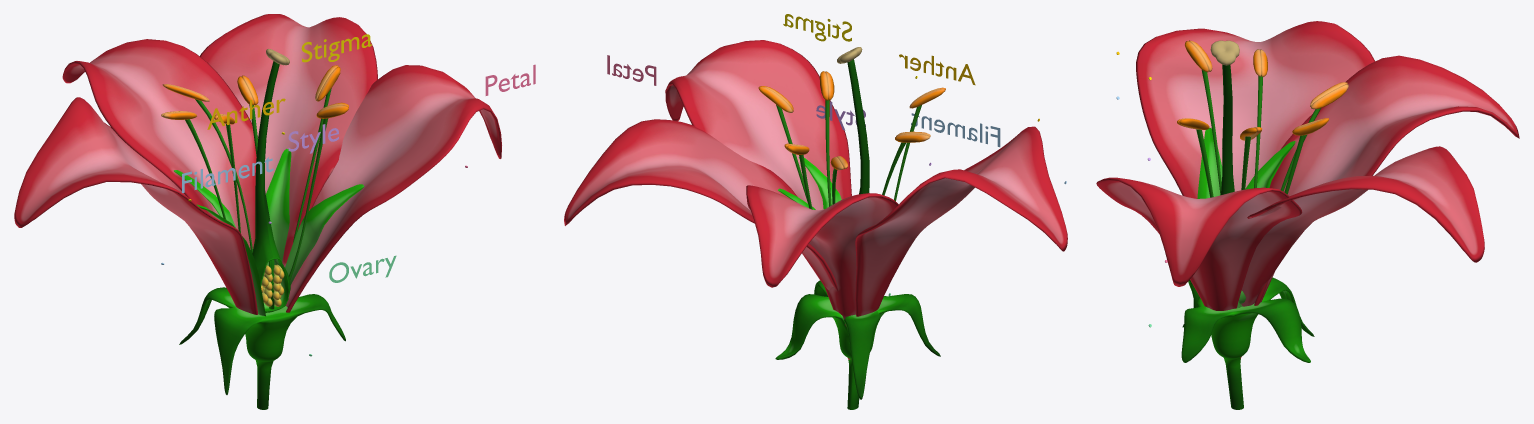
3 views of the same model, side by side, from view 1: azimuth 30°, elevation 25°; view 2: azimuth 150°, elevation 25°; view 3: azimuth 270°, elevation 25° (orthographic). The views are drawn at different scales.
Visible parts, largest first — view 1: fiore, Label_Filament, Label_Stigma, Label_Anther, Label_Ovary; view 2: fiore, Label_Filament, Label_Stigma, Label_Anther; view 3: fiore.
Boxes of the visible parts, x1,y1,x2,y2 form: fiore: [14, 14, 501, 409]; Label_Filament: [182, 157, 273, 192]; Label_Stigma: [301, 34, 371, 62]; Label_Anther: [207, 98, 285, 129]; Label_Ovary: [329, 255, 396, 282]; fiore: [564, 40, 1067, 409]; Label_Filament: [911, 113, 1000, 147]; Label_Stigma: [783, 14, 851, 41]; Label_Anther: [899, 54, 975, 85]; fiore: [1096, 21, 1519, 409].
Size of the model in its own units: 1.8 by 1.31 by 1.31.
Materials: 7 (1 with a texture image).
